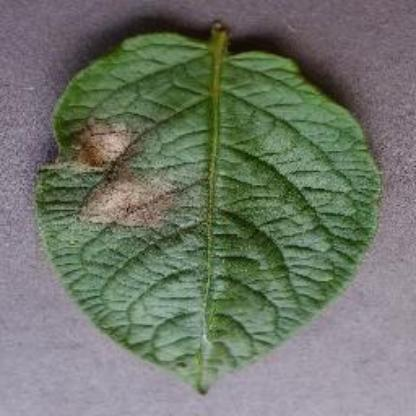Late-Blight: (32, 18, 384, 394)
